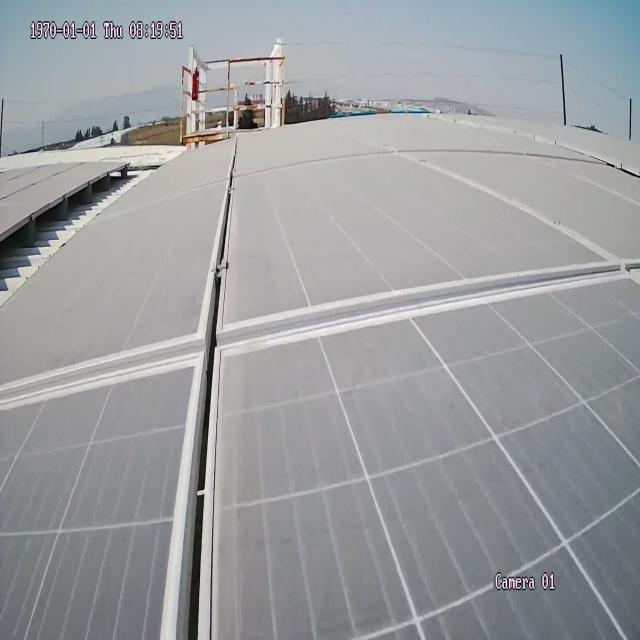outher panel: (0, 150, 184, 310)
